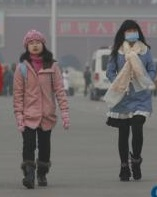person: (13, 28, 70, 191), (104, 19, 156, 183), (83, 67, 93, 97), (62, 68, 71, 95), (9, 62, 16, 96), (2, 64, 9, 96)
